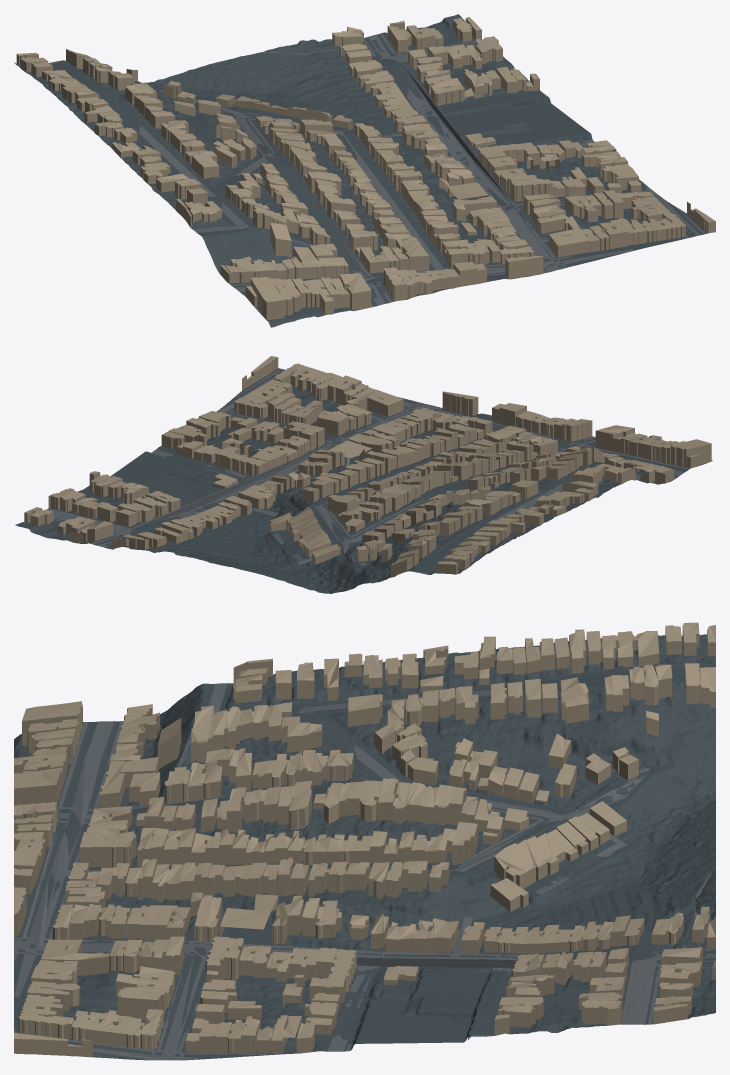
File: epsg26910-1427-10884.lod0.glb
3 renders of one model, top to bottom at view 1: azimuth 30°, elevation 25°; view 2: azimuth 150°, elevation 25°; view 3: azimuth 270°, elevation 25°, orthographic. The views are drawn at different scales.
Visible parts, largest first — view 1: epsg26910-1427-10884-lod0; view 2: epsg26910-1427-10884-lod0; view 3: epsg26910-1427-10884-lod0.
Part boxes in pixels (x1,y1,x2,y2): epsg26910-1427-10884-lod0: [14, 14, 715, 327]; epsg26910-1427-10884-lod0: [15, 356, 712, 593]; epsg26910-1427-10884-lod0: [14, 622, 715, 1060].
Size of the model in its own units: 384 by 85.46 by 384.
